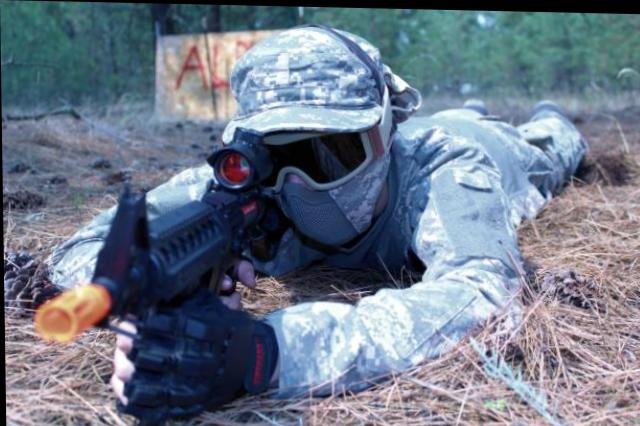other: (74, 27, 574, 315)
